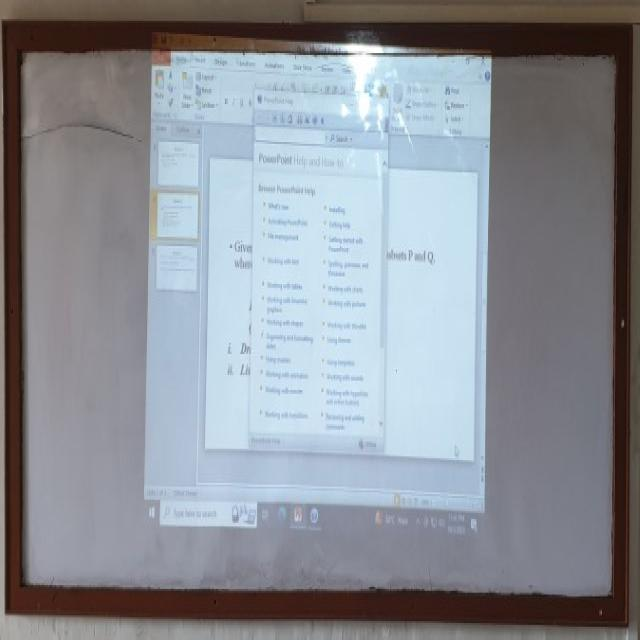Slide: (139, 35, 493, 547)
White-board: (11, 23, 628, 614)
